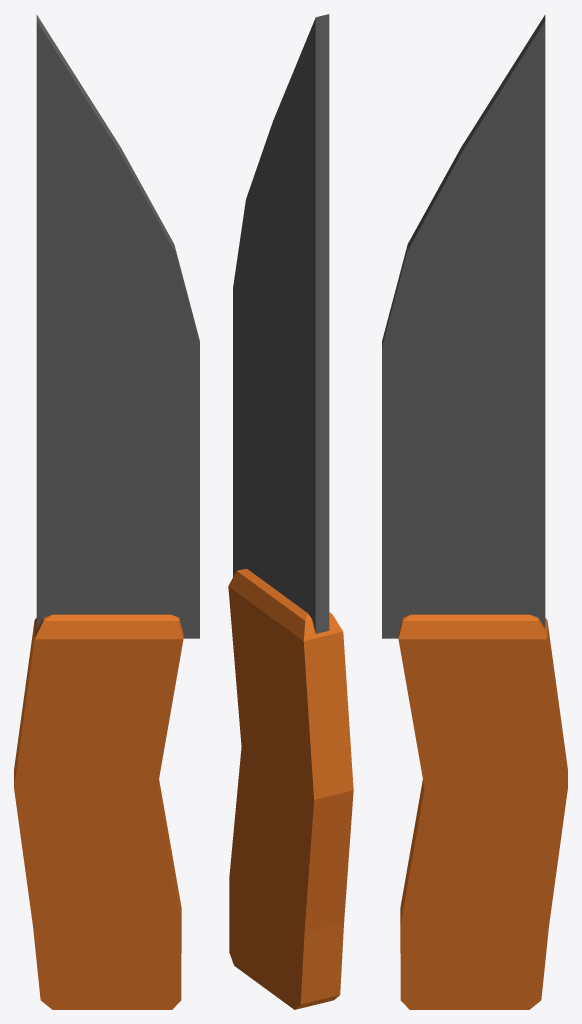
The model's file is Knife.fbx.
3 views of the same model, side by side, from view 1: azimuth 90°, elevation 25°; view 2: azimuth 210°, elevation 25°; view 3: azimuth 270°, elevation 25° (orthographic).
Visible parts, largest first — view 1: Knife; view 2: Knife; view 3: Knife.
Part boxes in pixels (box(x1,y1,x2,y2)): Knife: box(14, 14, 199, 1009); Knife: box(228, 14, 353, 1009); Knife: box(382, 14, 567, 1009).
Size of the model in its own units: 18.56 by 446 by 76.46.
